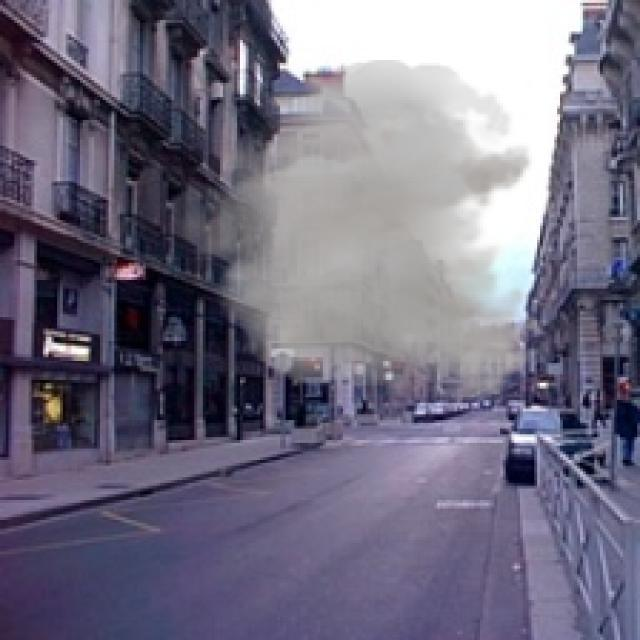Smoke: (168, 60, 543, 403)
